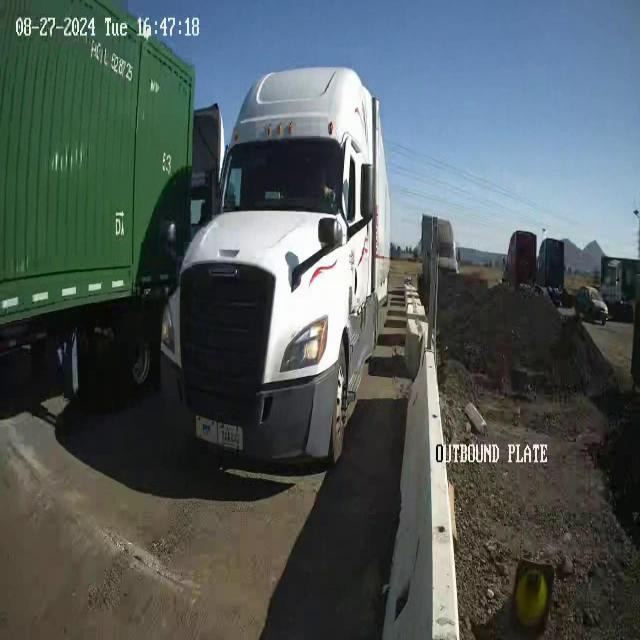TRUCK_IN: (0, 0, 226, 408)
TRUCK_OUT: (152, 72, 410, 487)
